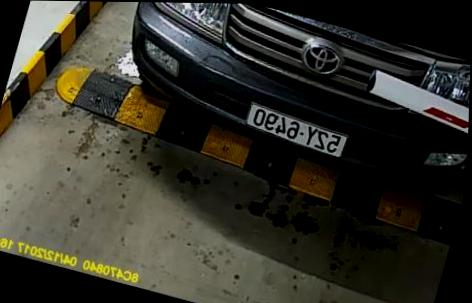License_Plate: (237, 97, 354, 164)
